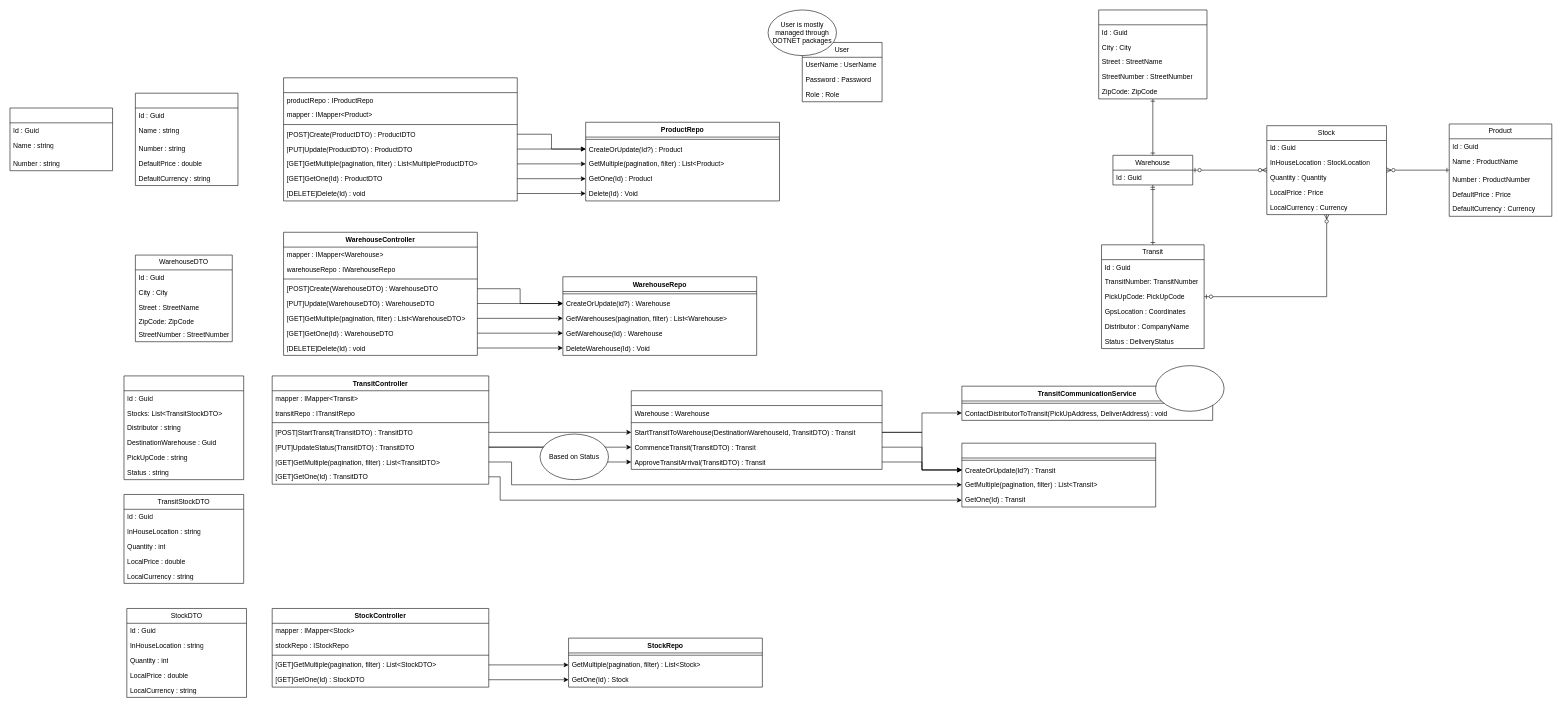
Image size: 1562x709. Some labels were removed from this diagram. Here are the shapes that lost their labels. From the top down, the box of each, then its label:
(1098, 9, 1207, 99): Address
(9, 107, 113, 171): MultipleProductDTO
(135, 93, 238, 186): ProductDTO
(283, 77, 517, 201): ProductController
(1155, 365, 1224, 411): wait to Implement
(123, 375, 244, 480): TransitDTO
(631, 390, 882, 469): TransitService
(961, 443, 1156, 507): TransitRepo
